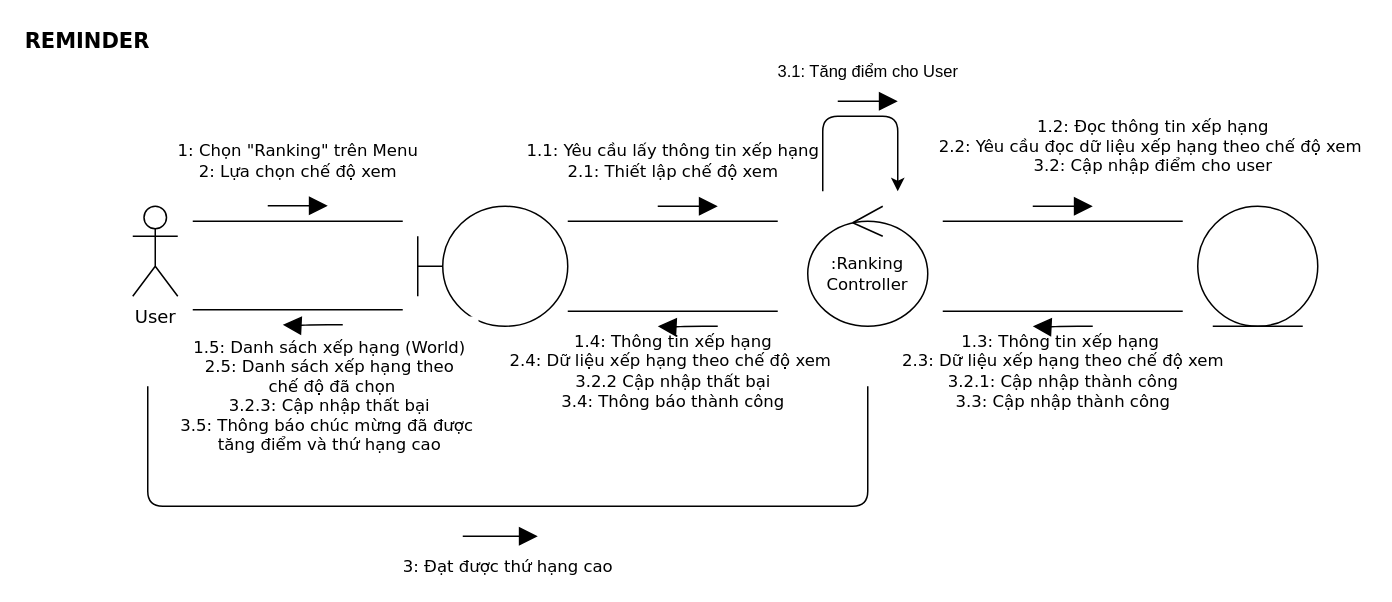
Image size: 1392x602. Some labels were removed from this diagram. Here are the shapes that lost their labels. From the top down, the centre of each, then its label:
At (492,265): ":RankingUI".
At (1257,265): ":RankingDB".
